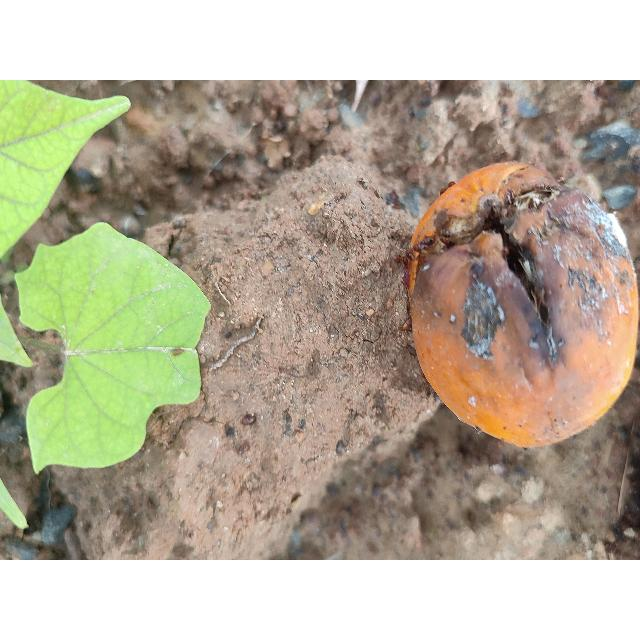damaged: (402, 163, 638, 447)
